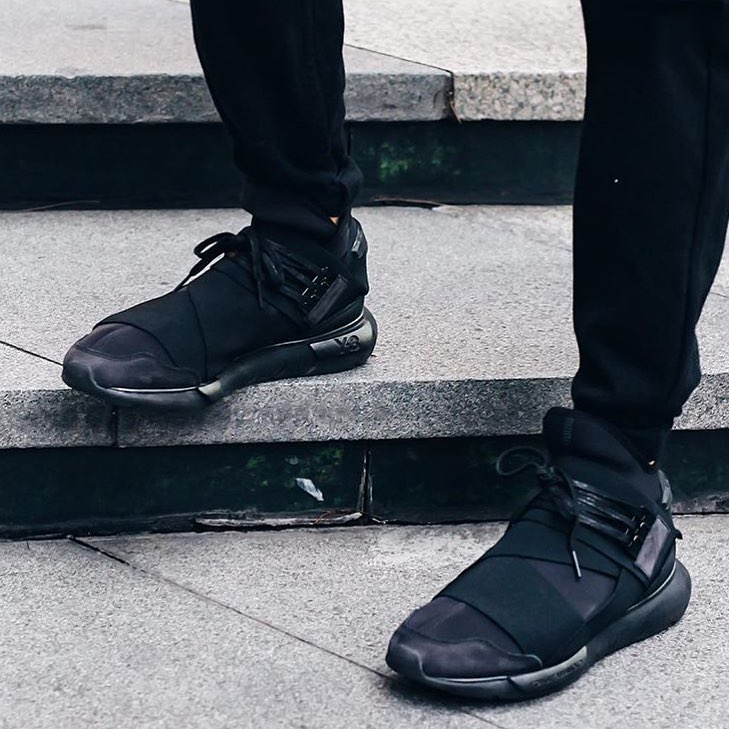sneaker: (356, 386, 703, 719), (42, 180, 398, 427)
